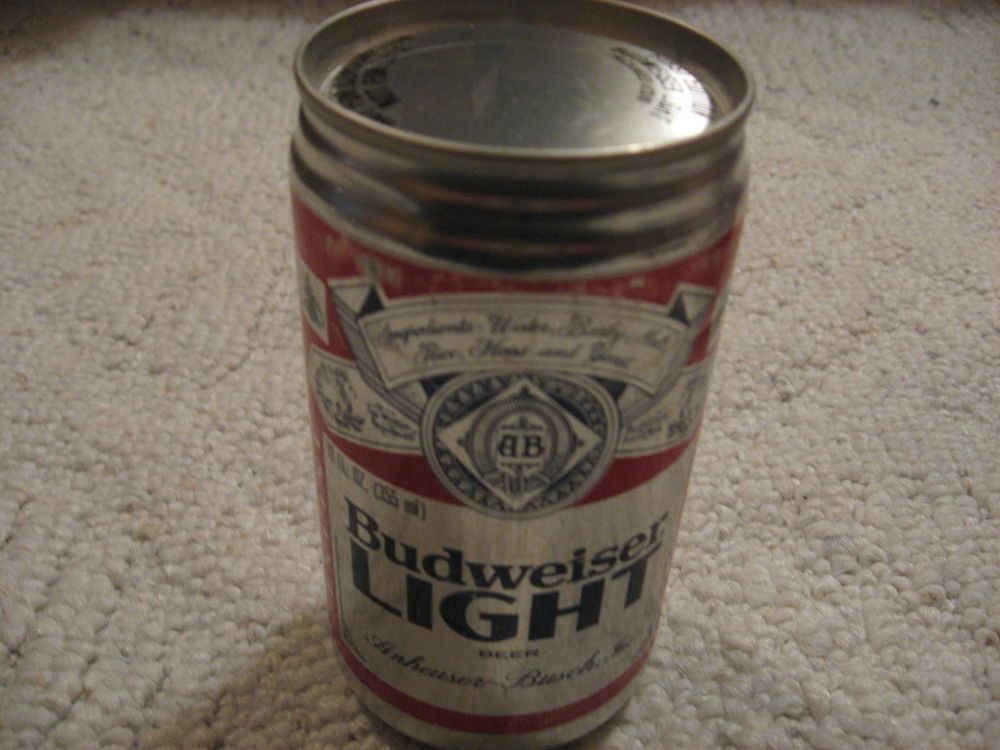beer can: (289, 2, 761, 750)
